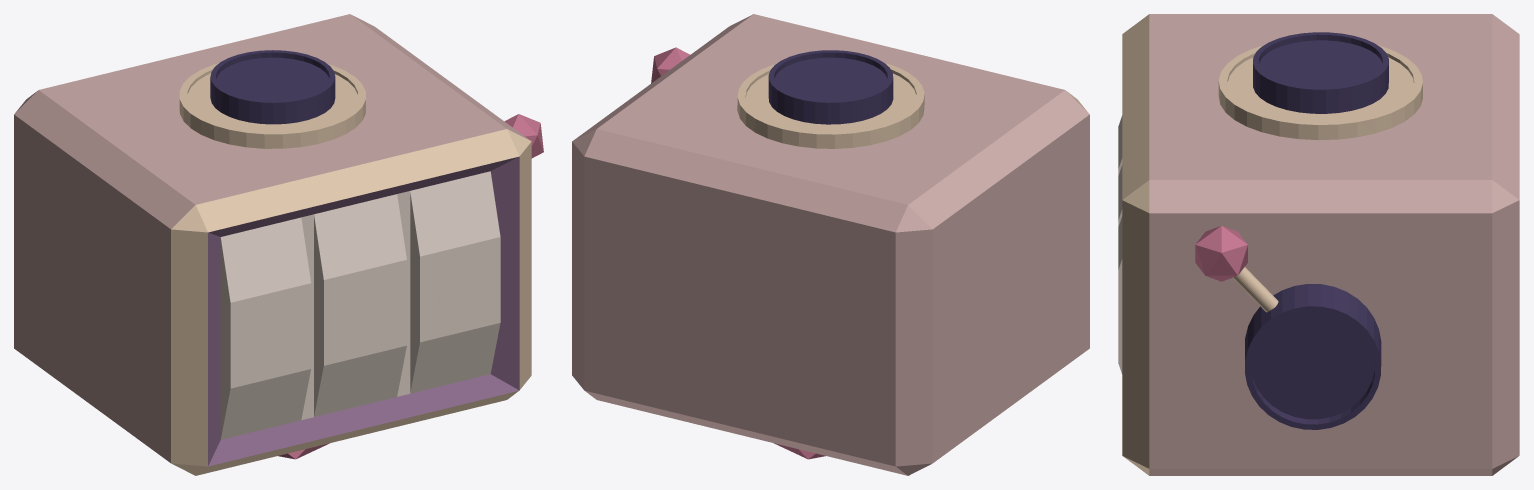
File: playerNew_body.obj
3 views of the same model, side by side, from view 1: azimuth 30°, elevation 25°; view 2: azimuth 150°, elevation 25°; view 3: azimuth 270°, elevation 25° (orthographic). The views are drawn at different scales.
Visible parts, largest first — view 1: ICO球.037; view 2: ICO球.037; view 3: ICO球.037.
Part boxes in pixels (bbox=[...]): ICO球.037: bbox=[14, 14, 543, 475]; ICO球.037: bbox=[572, 14, 1089, 475]; ICO球.037: bbox=[1118, 14, 1519, 475].
Bounding box in the file's own units: 1.57 × 1.36 × 1.24.
